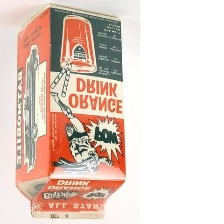carton: (13, 3, 129, 220)
